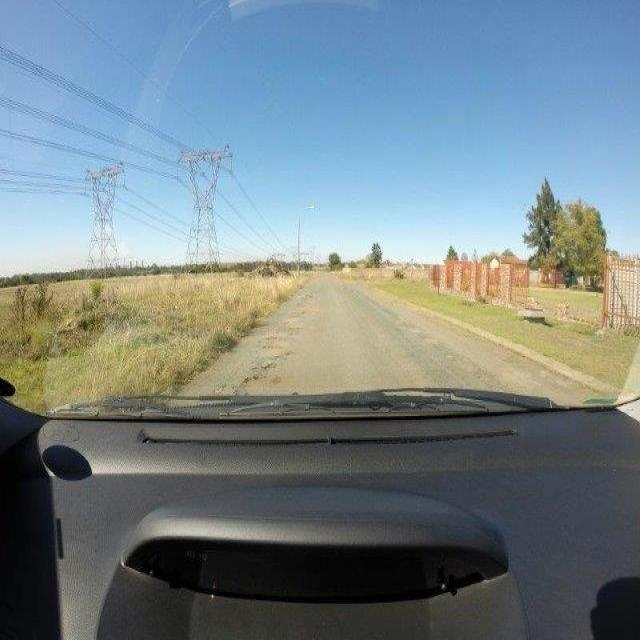lubang: (235, 351, 285, 389)
